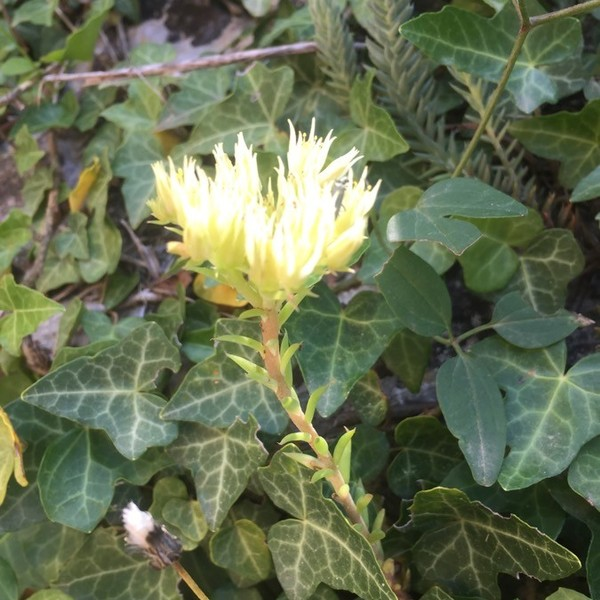obstacle: (73, 92, 555, 584)
